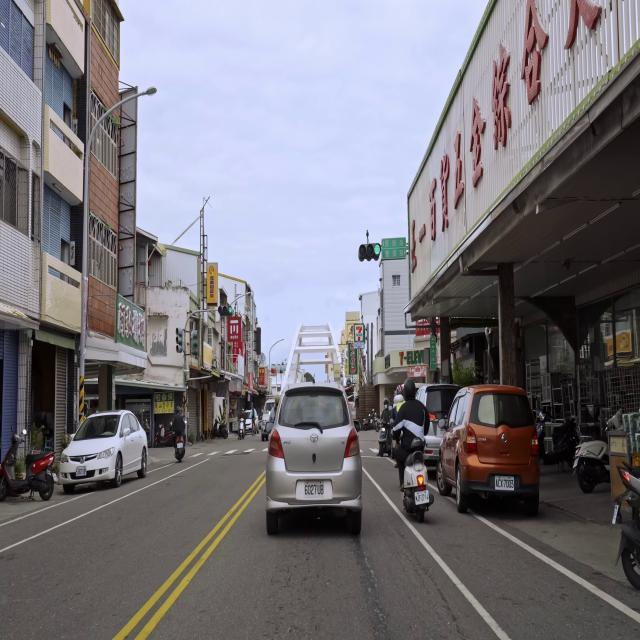green light: (358, 242, 381, 259), (217, 304, 232, 316)
